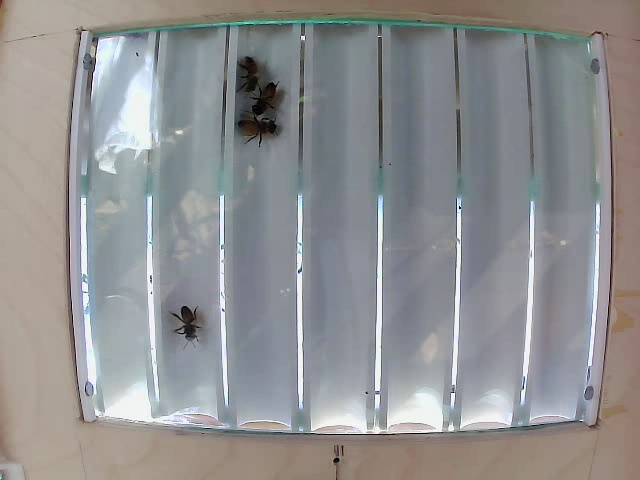bee: (161, 304, 212, 363), (228, 114, 283, 156), (231, 45, 272, 101), (256, 90, 292, 125)
